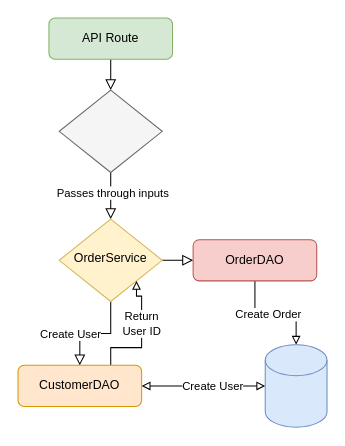
Some shapes in this 345 by 446 pixel diagram are drawn without their labels. Here are the shapes that lost their labels. From the top down, the box of each, then its label:
(58, 89, 162, 173): OrderController
(264, 344, 327, 427): MySQL DB
